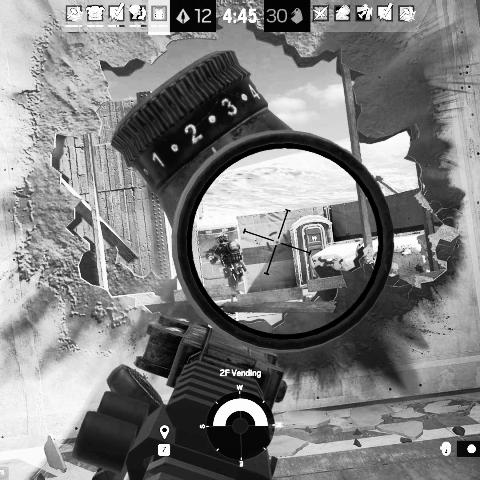Character: (205, 232, 248, 296)
Head: (217, 233, 228, 245)
